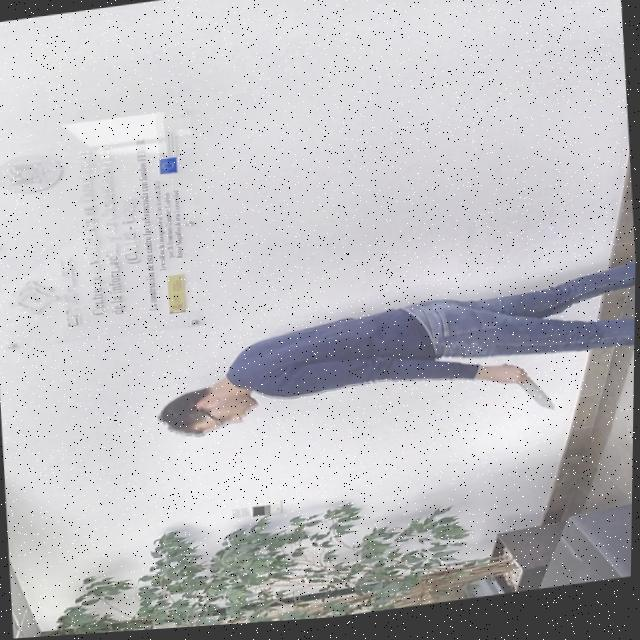knife: (517, 385, 556, 423)
